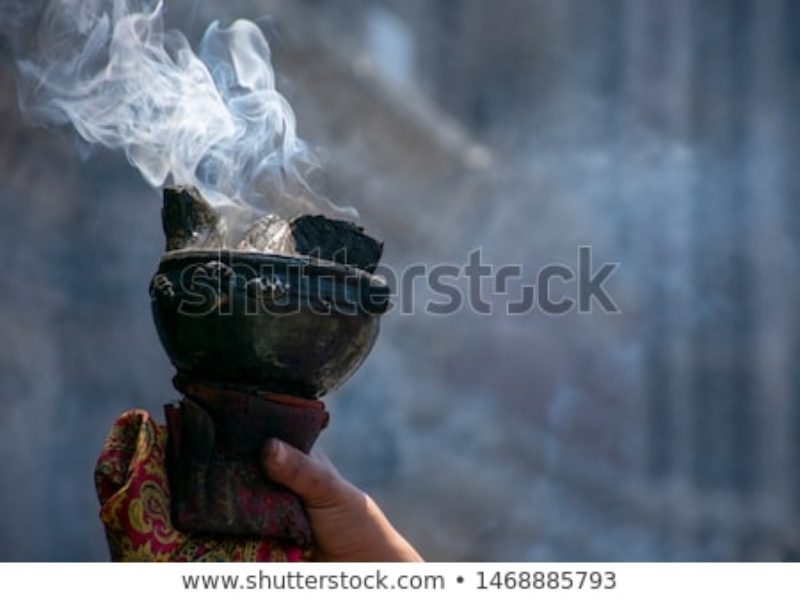smoke: (34, 2, 309, 223)
